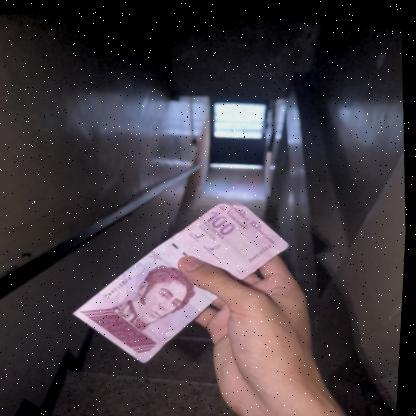one_hundred-front-vef: (64, 182, 303, 375)
